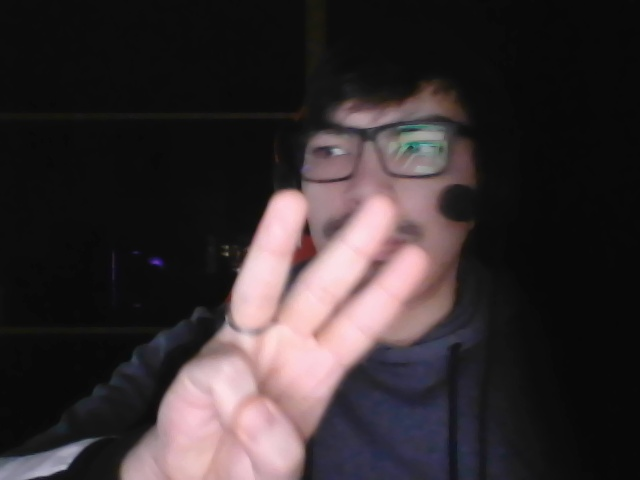three: (145, 179, 436, 480)
